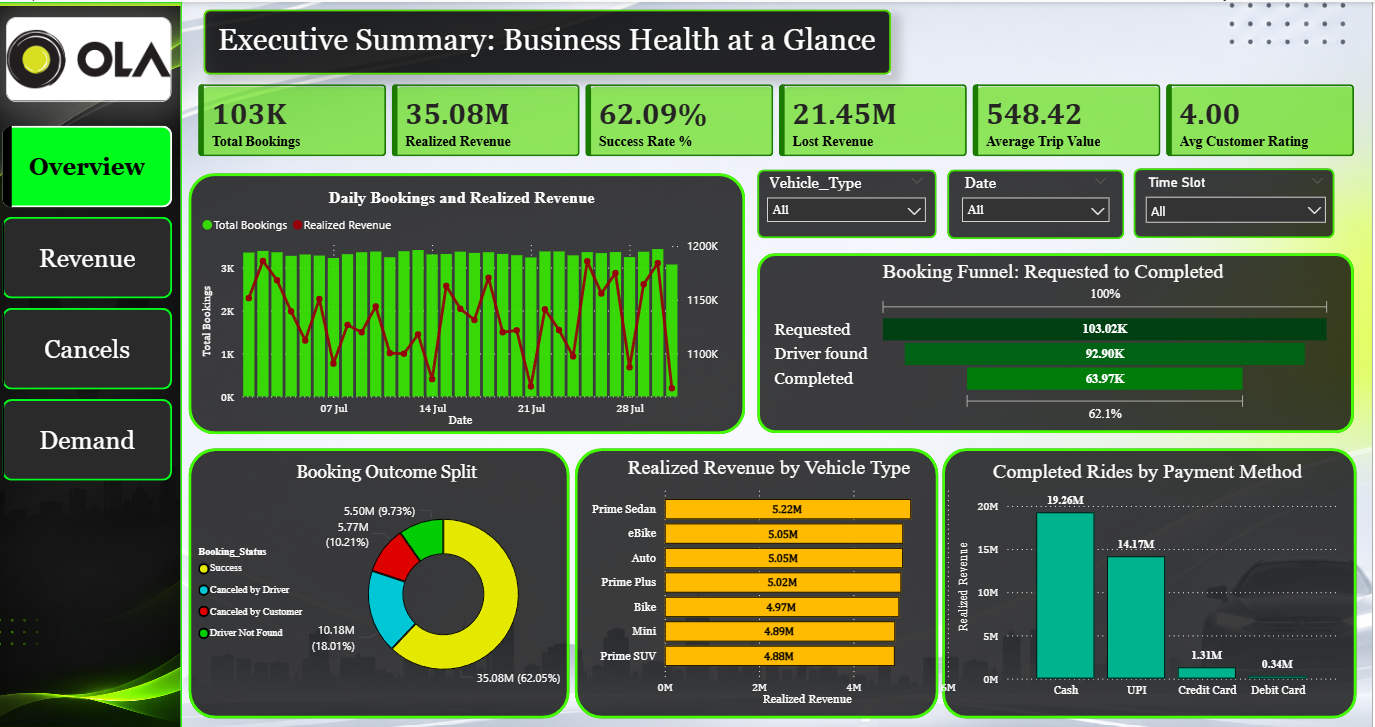

Layout of this report page (visuals, bound fields, positions):
{"tool":"powerbi","page":{"name":"Overview","canvas":[1450,768],"ordinal":0},"visuals":[{"type":"image","box":[0,0,195.7,768.6],"z":0,"group":"g8"},{"type":"cardVisual","fields":{"Data":["olaBookings_SQL_ready.Total Bookings","olaBookings_SQL_ready.Complete Ride Value","olaBookings_SQL_ready.Booking Success Rate","olaBookings_SQL_ready.Lost Revenue","olaBookings_SQL_ready.AOV","olaBookings_SQL_ready.Avg Customer Rating"]},"box":[196.7,70,1253.3,110],"z":0},{"type":"shape","box":[1002.3,176.7,186.7,73.3],"z":0,"group":"g6"},{"type":"image","box":[10.5,16,174.8,89.5],"z":1000,"group":"g8"},{"type":"slicer","fields":{"Values":["olaBookings_SQL_ready.Date.Variation.Date Hierarchy.Day"]},"box":[1007.5,176.2,175.6,58.8],"z":1000,"group":"g6"},{"type":"group","id":"g1","title":"Group 1","box":[996.7,470,436.7,285],"z":1000},{"type":"group","id":"g2","title":"Group 5","box":[218.7,7.6,724.7,68.7],"z":2000},{"type":"shape","box":[218.7,7.6,724.7,68.7],"z":2000,"group":"g2"},{"type":"shape","box":[801.7,176.2,189.2,72.5],"z":2000,"group":"g6"},{"type":"textbox","box":[221.9,15.4,718.2,60.9],"z":3000,"group":"g2"},{"type":"shape","box":[1198.2,175,211.9,73.8],"z":3000,"group":"g6"},{"type":"group","id":"g3","title":"Group 2","box":[801.7,265,628.8,189.4],"z":3000},{"type":"shape","box":[202.8,470,401.7,285],"z":3000,"group":"g5"},{"type":"slicer","fields":{"Values":["olaBookings_SQL_ready.Vehicle_Type"]},"box":[801.7,176.2,187.7,58.8],"z":4000,"group":"g6"},{"type":"funnel","title":"Booking Funnel: Requested to Completed","fields":{"Category":["Table.Stage"],"Y":["Table.Funnel Value"]},"box":[815.8,271.9,597,176.7],"z":4000},{"type":"slicer","fields":{"Values":["olaBookings_SQL_ready.Time Slot"]},"box":[1201.2,176.2,210.4,62.5],"z":5000,"group":"g6"},{"type":"shape","box":[801.7,265,628.8,189.4],"z":5000,"group":"g3"},{"type":"group","id":"g4","title":"Group 6","box":[610,470,410,285],"z":5000},{"type":"donutChart","title":"Booking Outcome Split","fields":{"Y":["olaBookings_SQL_ready.Total Booking Value"],"Category":["olaBookings_SQL_ready.Booking_Status"]},"box":[212.8,485,396.7,258.3],"z":5000,"group":"g5"},{"type":"group","id":"g5","title":"Group 7","box":[202.8,470,406.7,285],"z":6000},{"type":"shape","box":[610,470,383.4,285],"z":6000,"group":"g4"},{"type":"group","id":"g6","title":"Group 3","box":[801.7,175,609.9,75],"z":7000},{"type":"clusteredBarChart","title":"Realized Revenue by Vehicle Type","fields":{"Category":["olaBookings_SQL_ready.Vehicle_Type"],"Y":["olaBookings_SQL_ready.Realized Revenue"]},"box":[610.5,478.3,409.5,267.8],"z":7000,"group":"g4"},{"type":"group","id":"g7","title":"Group 8","box":[203.3,180,586.7,275],"z":8000},{"type":"shape","box":[203.3,180,586.7,275],"z":8000,"group":"g7"},{"type":"actionButton","box":[9.8,225,175.2,88],"z":9000},{"type":"group","id":"g8","title":"Group 8","box":[0,0,195.7,768.6],"z":9001,"group":"g9"},{"type":"actionButton","box":[8.4,319.5,175.2,88.3],"z":10000},{"type":"actionButton","box":[9.8,419,175.2,88.3],"z":11000},{"type":"shape","box":[996.7,470,436.7,285],"z":11000,"group":"g1"},{"type":"group","id":"g9","title":"Group 4","box":[0,0,195.7,768.6],"z":12000},{"type":"columnChart","title":"Completed Rides by Payment Method","fields":{"Category":["olaBookings_SQL_ready.Payment_Method"],"Y":["olaBookings_SQL_ready.Realized Revenue"]},"box":[1008.9,481.7,409,258.7],"z":12000,"group":"g1"},{"type":"pageNavigator","box":[7,130.3,179.4,376.9],"z":13000},{"type":"lineClusteredColumnComboChart","title":"Daily Bookings and Realized Revenue","fields":{"Category":["olaBookings_SQL_ready.Date.Variation.Date Hierarchy.Day"],"Y":["olaBookings_SQL_ready.Total Bookings"],"Y2":["olaBookings_SQL_ready.Realized Revenue"]},"box":[213.1,195.9,557.3,256.2],"z":14000,"group":"g7"}]}

Visuals, with their boxes in screenshot pixels (x1, y1, x2, y2), scaled from the page's 1450x768 canvas onto the 1375x727 screenshot:
image: <box>0,0,186,726</box>
cardVisual - olaBookings_SQL_ready.Total Bookings x olaBookings_SQL_ready.Complete Ride Value: <box>187,66,1374,170</box>
shape: <box>950,167,1128,237</box>
image: <box>10,15,176,100</box>
slicer - olaBookings_SQL_ready.Date.Variation.Date Hierarchy.Day: <box>955,167,1122,222</box>
"Group 1" group: <box>945,445,1359,715</box>
"Group 5" group: <box>207,7,895,72</box>
shape: <box>207,7,895,72</box>
shape: <box>760,167,940,235</box>
textbox: <box>210,15,891,72</box>
shape: <box>1136,166,1337,236</box>
"Group 2" group: <box>760,251,1357,430</box>
shape: <box>192,445,573,715</box>
slicer - olaBookings_SQL_ready.Vehicle_Type: <box>760,167,938,222</box>
"Booking Funnel: Requested to Completed" funnel: <box>774,257,1340,425</box>
slicer - olaBookings_SQL_ready.Time Slot: <box>1139,167,1339,226</box>
shape: <box>760,251,1357,430</box>
"Group 6" group: <box>578,445,967,715</box>
"Booking Outcome Split" donutChart: <box>202,459,578,704</box>
"Group 7" group: <box>192,445,578,715</box>
shape: <box>578,445,942,715</box>
"Group 3" group: <box>760,166,1339,237</box>
"Realized Revenue by Vehicle Type" clusteredBarChart: <box>579,453,967,706</box>
"Group 8" group: <box>193,170,749,431</box>
shape: <box>193,170,749,431</box>
actionButton: <box>9,213,175,296</box>
"Group 8" group: <box>0,0,186,726</box>
actionButton: <box>8,302,174,386</box>
actionButton: <box>9,397,175,480</box>
shape: <box>945,445,1359,715</box>
"Group 4" group: <box>0,0,186,726</box>
"Completed Rides by Payment Method" columnChart: <box>957,456,1345,701</box>
pageNavigator: <box>7,123,177,480</box>
"Daily Bookings and Realized Revenue" lineClusteredColumnComboChart: <box>202,185,731,428</box>
